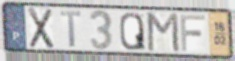3: (89, 9, 116, 52)
F: (179, 13, 207, 53)
M: (146, 12, 181, 54)
Q: (119, 11, 147, 52)
T: (59, 9, 83, 49)
X: (26, 6, 55, 51)
